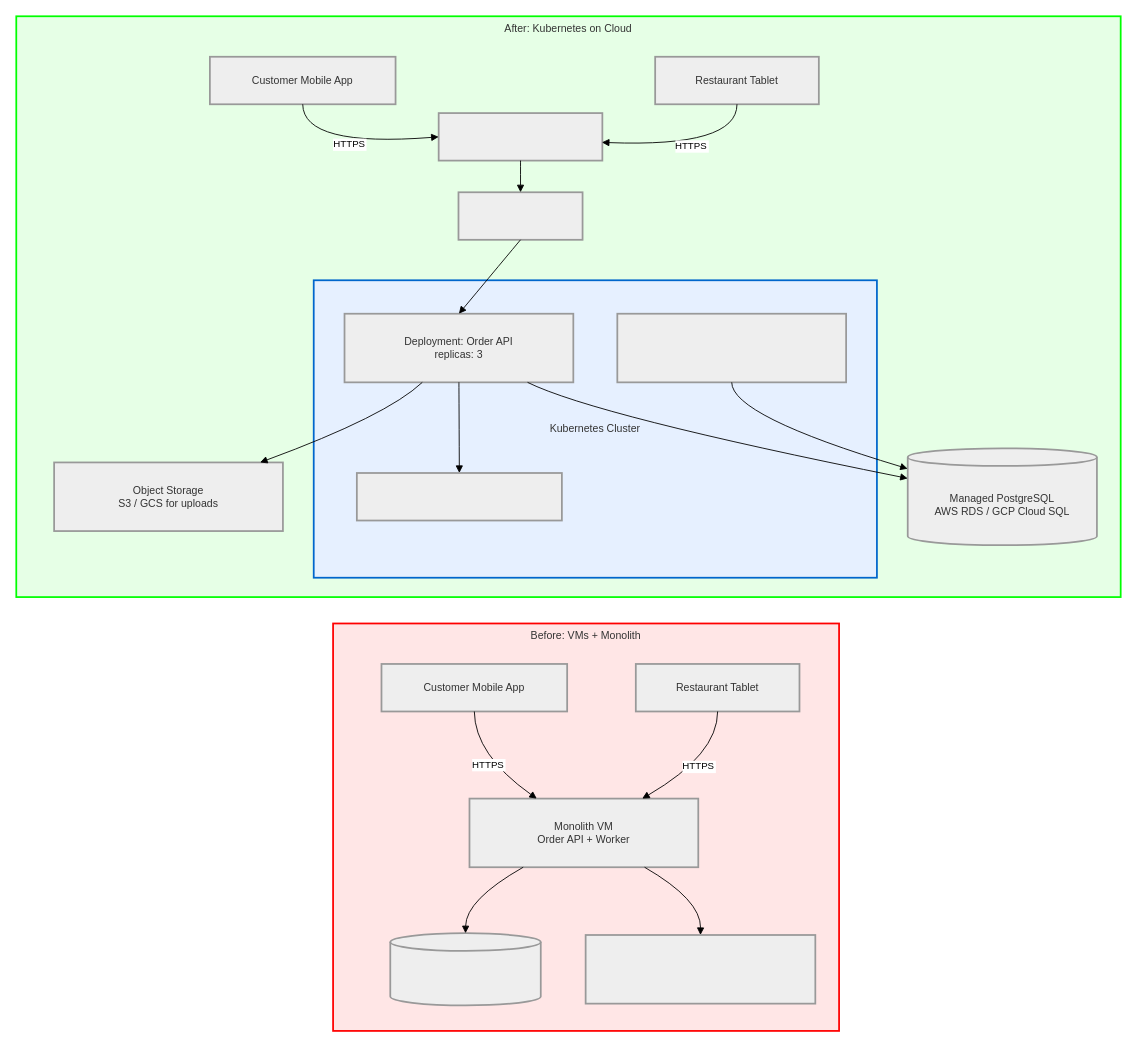
Some shapes in this 1136 by 1046 pixel diagram are drawn without their labels. The shapes that lost their labels are listed below. From the top down, each one's centre as x and y in pixels, then its label:
At point (520, 136): "Ingress Controller".
At point (520, 215): "K8s Service".
At point (731, 347): "Deployment: Worker replicas: 2".
At point (459, 496): "PVC menu-uploads-pvc".
At point (465, 969): "PostgreSQL Managed".
At point (700, 969): "Local Disk /var/citybite/uploads".
